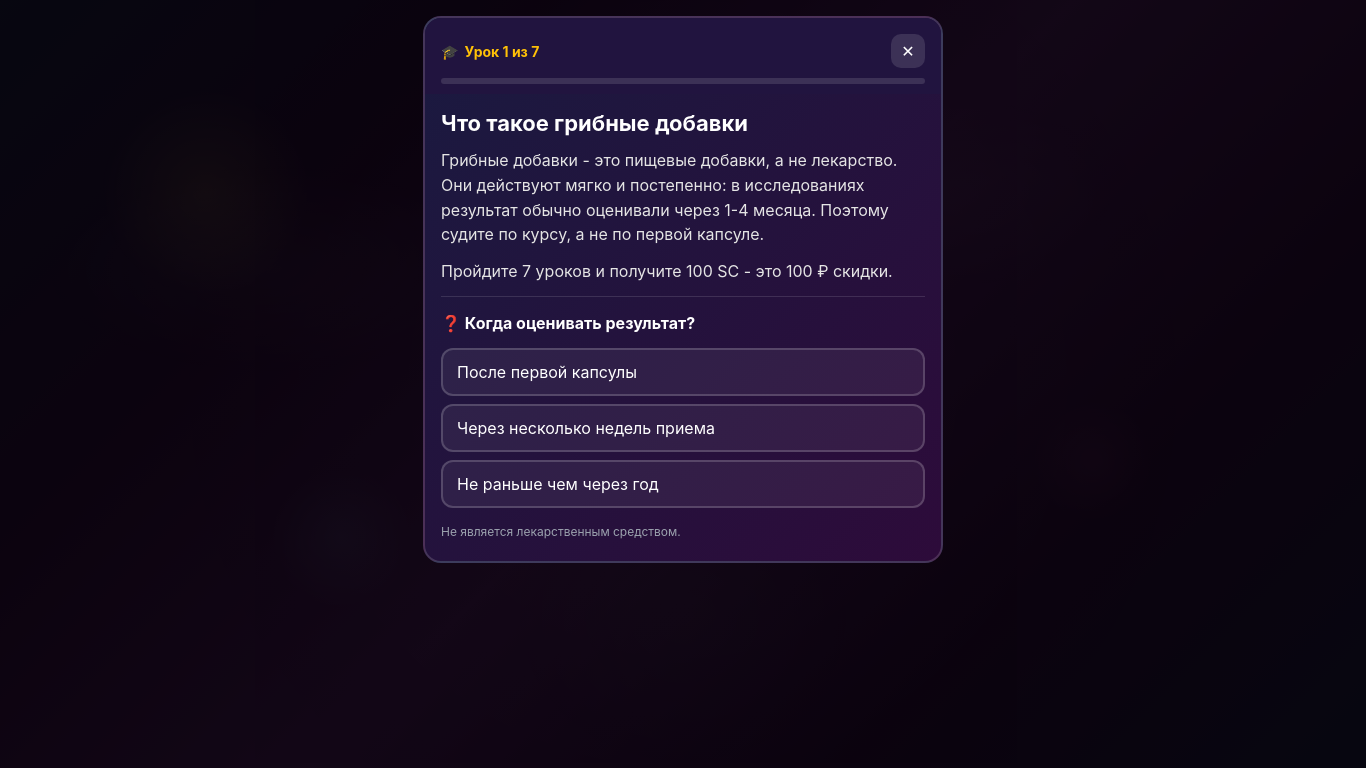
Test case: неверный ответ — подсказка и «Еще раз», дальше не пускает
What coordinates should you click on to do the following:
click the button "Не раньше чем через год"
I would click on:
 (558, 484)
Its box is [441,460,925,508].
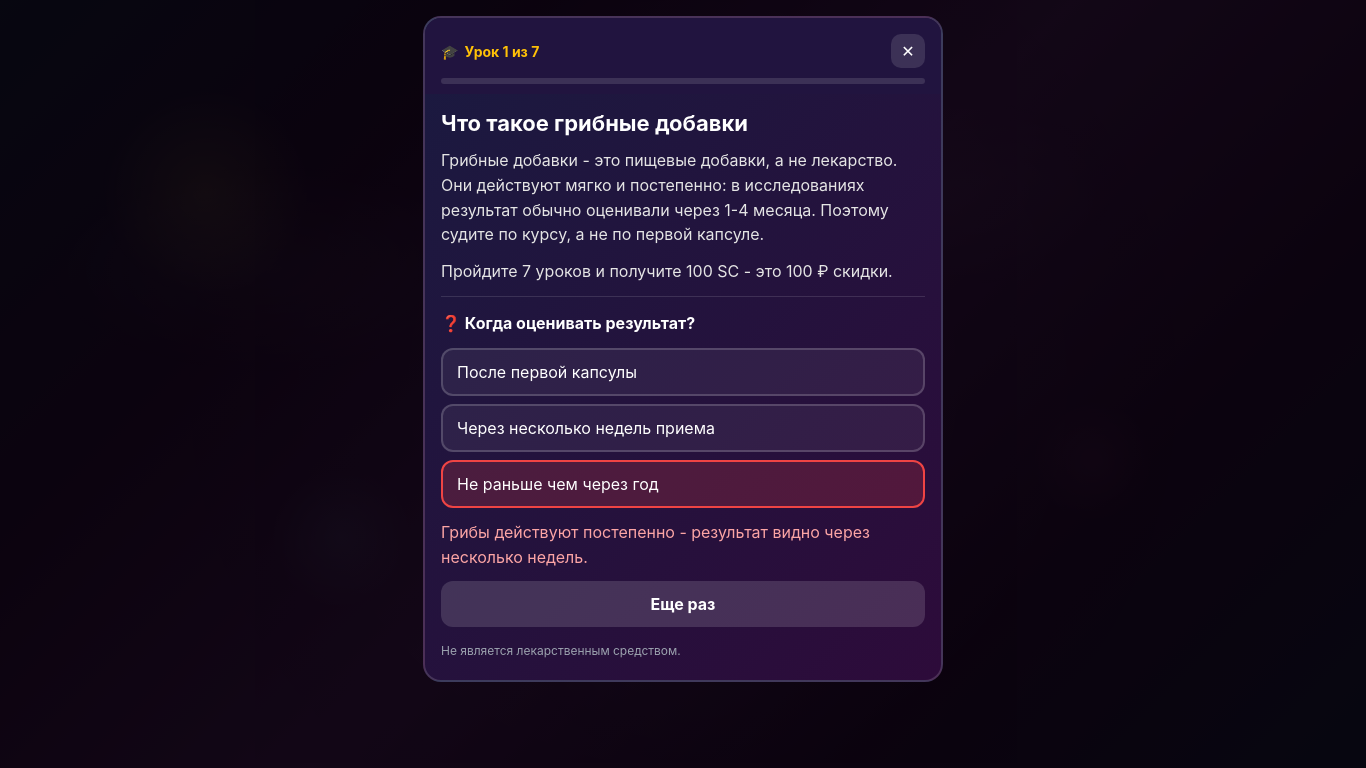
Expected: the button "Через несколько недель приема" is disabled, [441,404,925,452]
Now the text "Грибы действуют постепенно - результат видно через несколько недель." is shown, box [441,520,925,569]
What coordinates should you click on to do the following:
click the button "Еще раз"
I would click on:
 (683, 604)
Its box is [441,581,925,627].
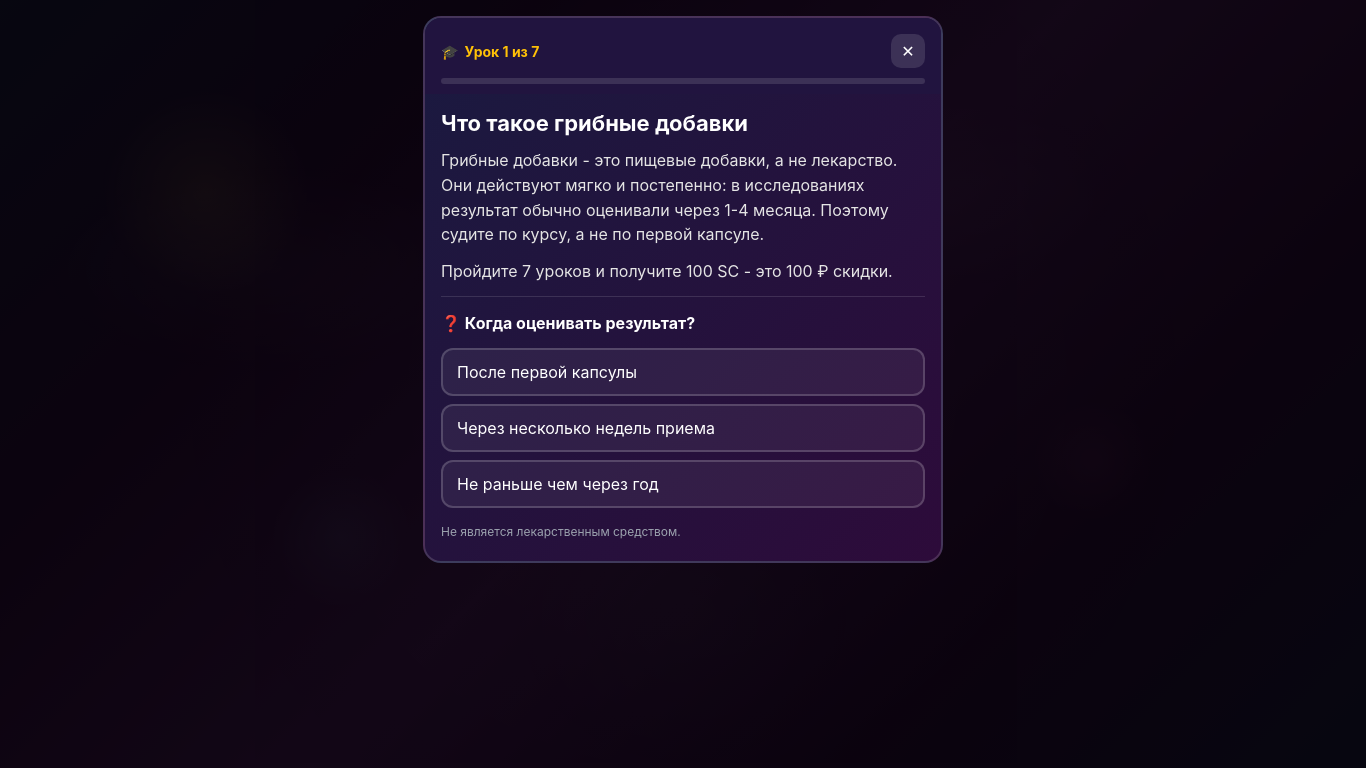
Expected: the button "Через несколько недель приема" is enabled, [441,404,925,452]
Now the text "Грибы действуют постепенно - результат видно через несколько недель." is gone
